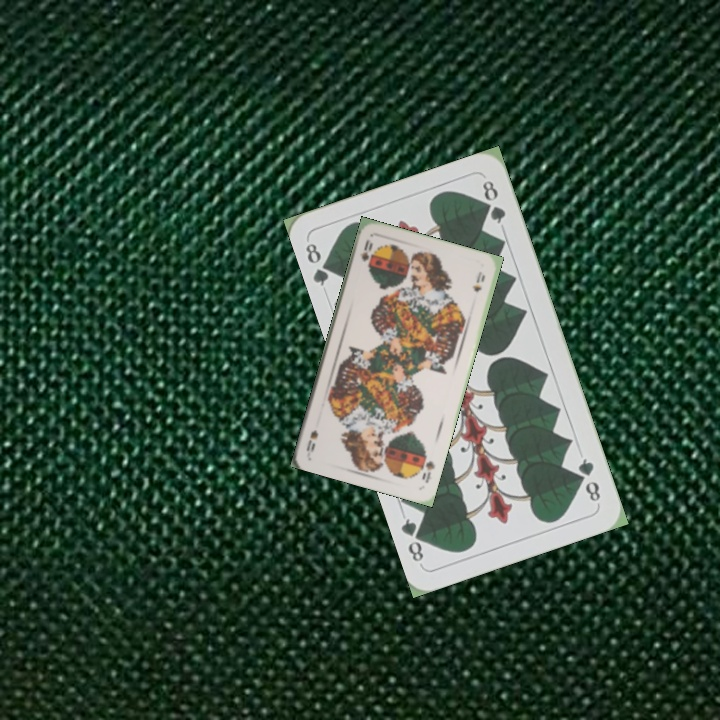G8: (301, 239, 337, 289), (574, 454, 603, 505)
SO: (356, 235, 375, 270), (418, 451, 437, 486)
